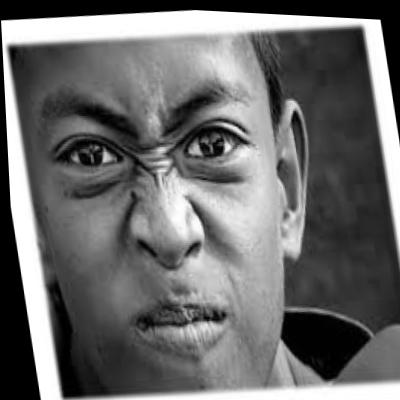angry: (21, 23, 339, 398)
